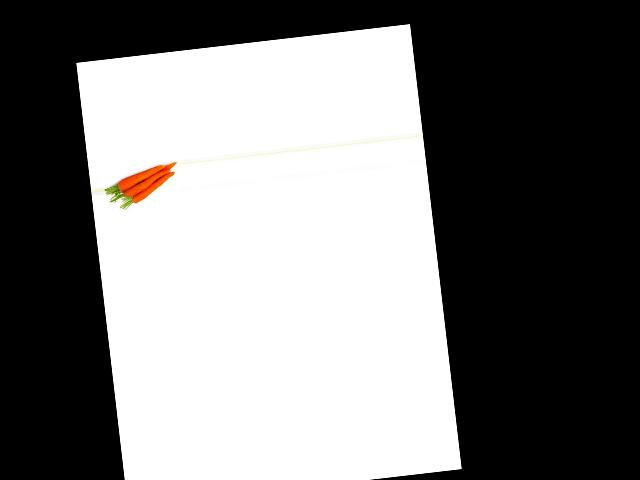carrot: (111, 162, 167, 191)
